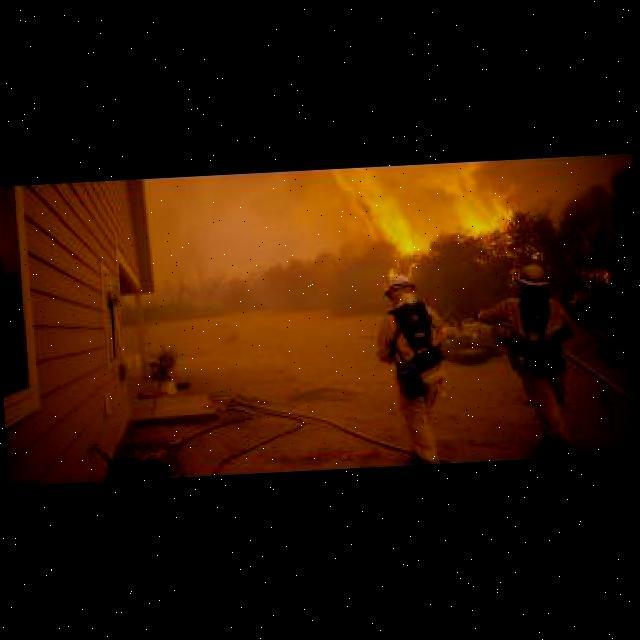Fire: (330, 164, 446, 284), (440, 161, 537, 260)
